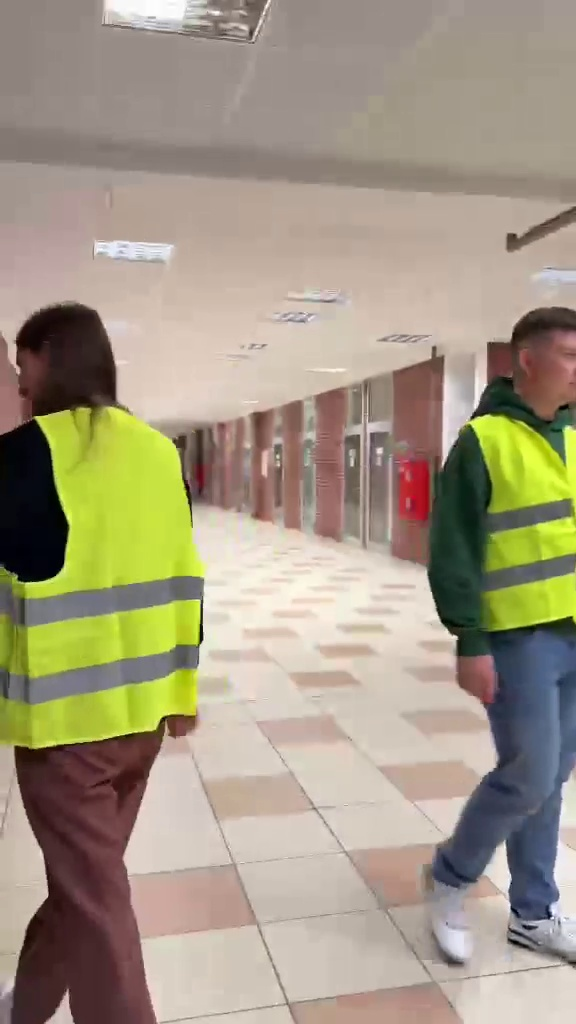vest: (3, 302, 201, 987), (416, 306, 576, 961)
